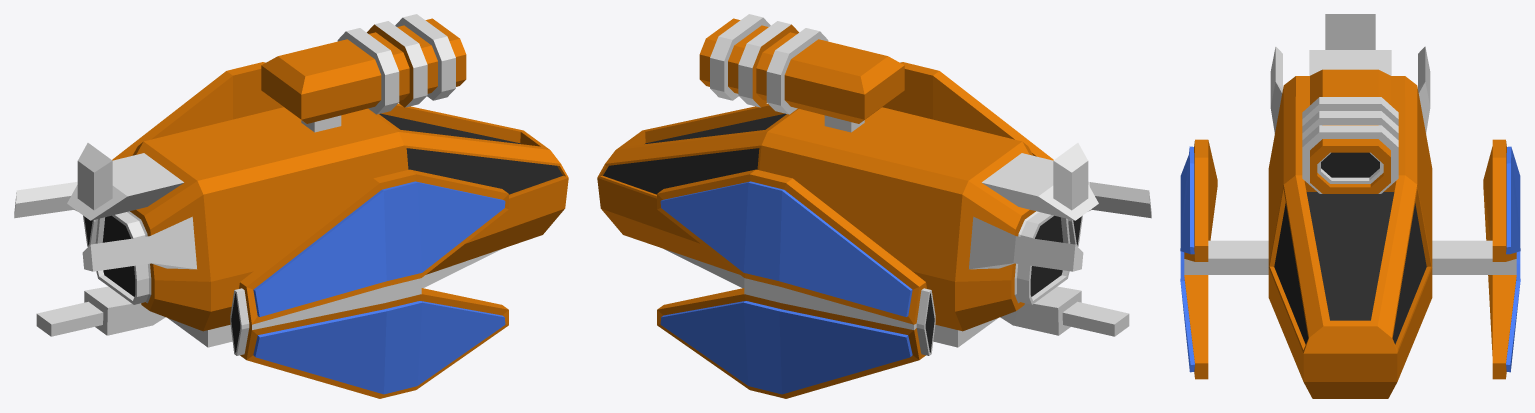
The model's file is Space_Ship2_4.fbx.
3 views of the same model, side by side, from view 1: azimuth 30°, elevation 25°; view 2: azimuth 150°, elevation 25°; view 3: azimuth 270°, elevation 25° (orthographic).
Parts seen in each view (by area): view 1: Space_Ship.002; view 2: Space_Ship.002; view 3: Space_Ship.002.
Boxes of the visible parts, box(x1,y1,x2,y2) form: Space_Ship.002: box(14, 14, 568, 398); Space_Ship.002: box(597, 14, 1151, 398); Space_Ship.002: box(1180, 14, 1520, 398).
Bounding box in the file's own units: 718 × 391 × 416.
